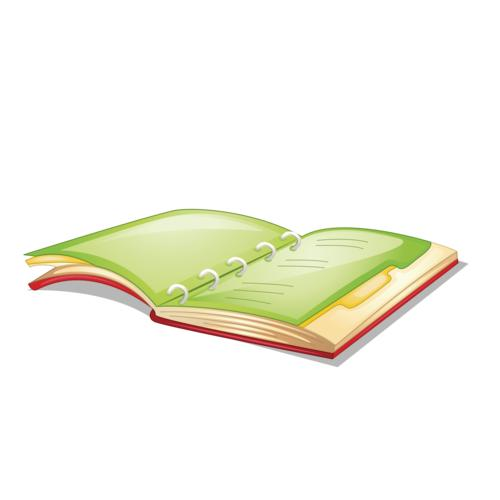book: (17, 196, 469, 376)
